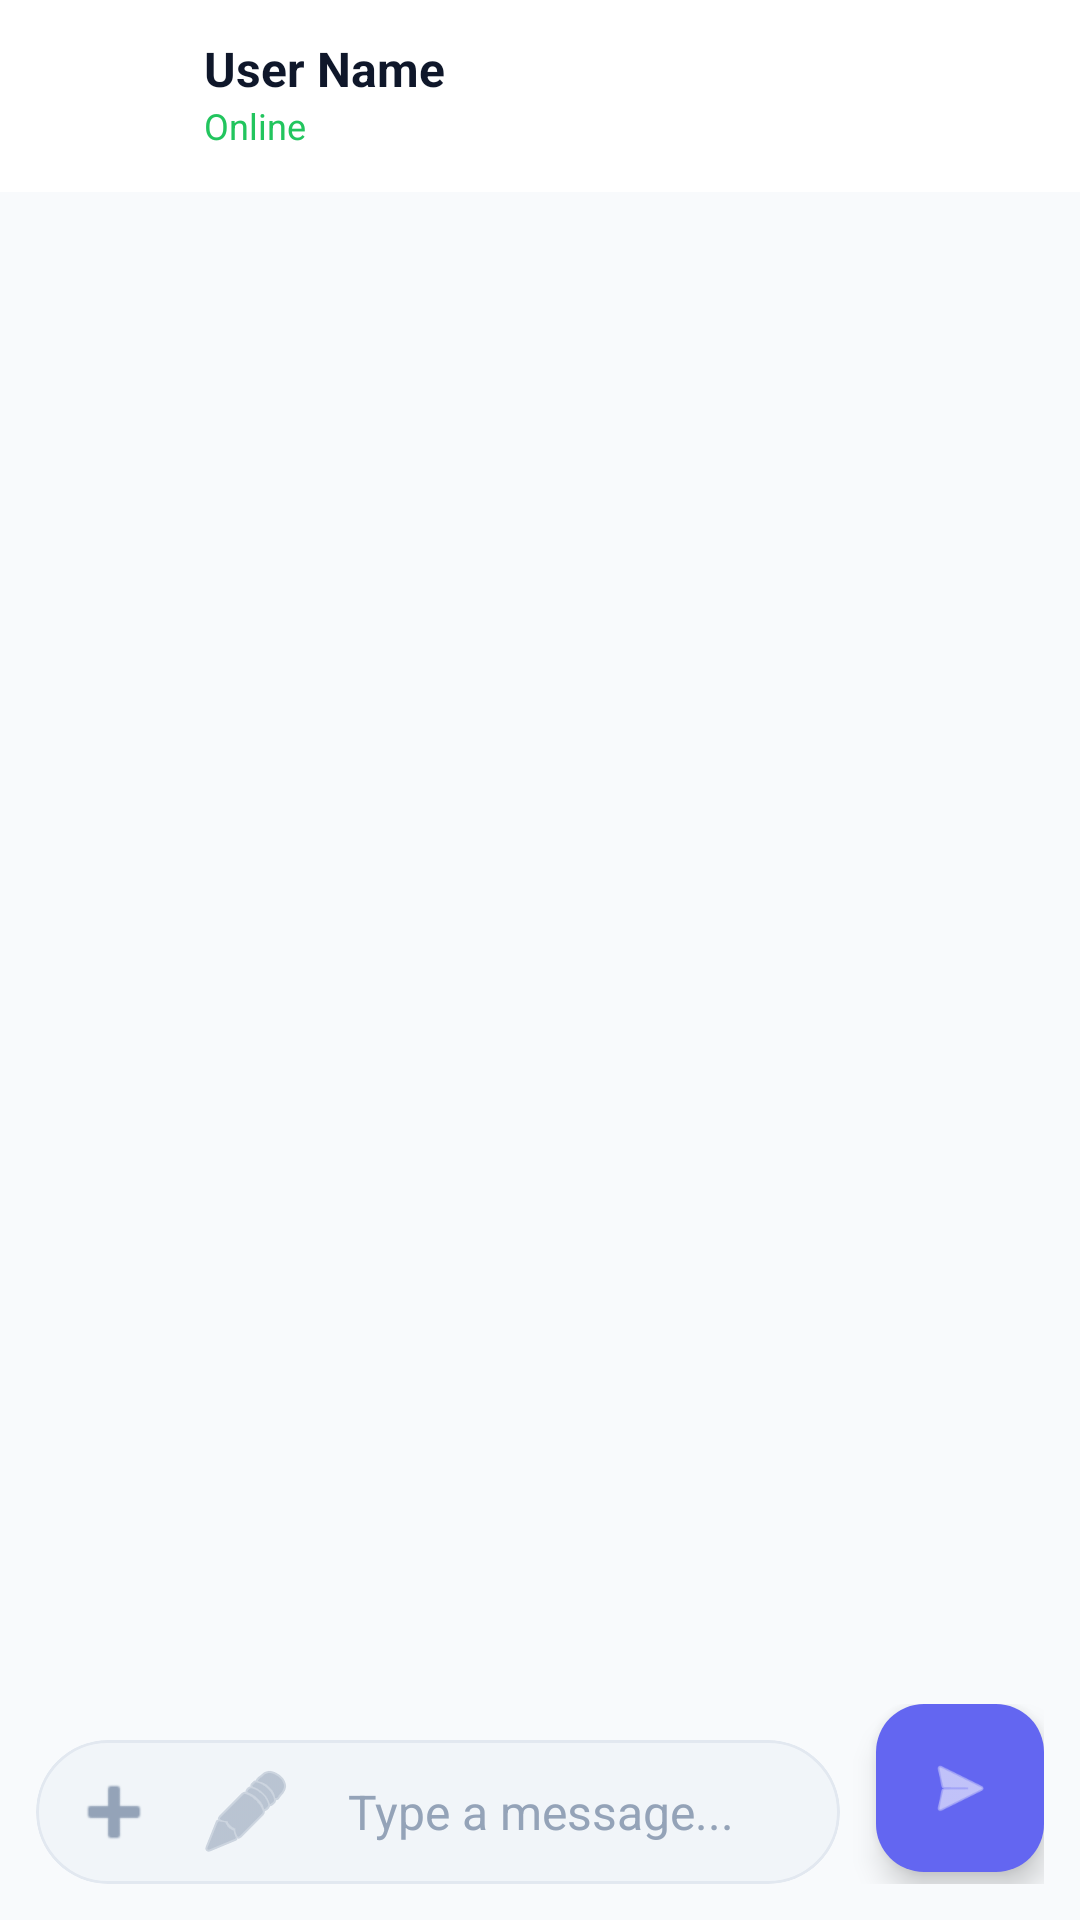

Point at icon controls on the screen. Image size 1080w x 1920h, points as point (x, y).
add: point (114, 1812)
edit: point (246, 1811)
send: point (960, 1788)
